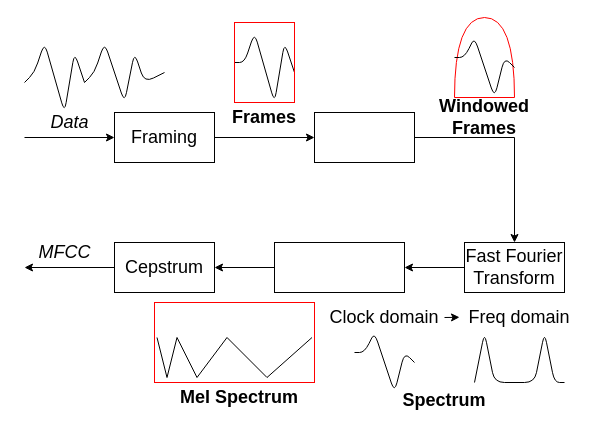
The diagram is 592 pixels wide and 433 high, and some of its shapes have lost their labels. Here are the shapes that lost their labels. From the top down, the centre of each, then its label:
the point at 364,137: Windowing
the point at 339,267: Mel Frequency Transform
